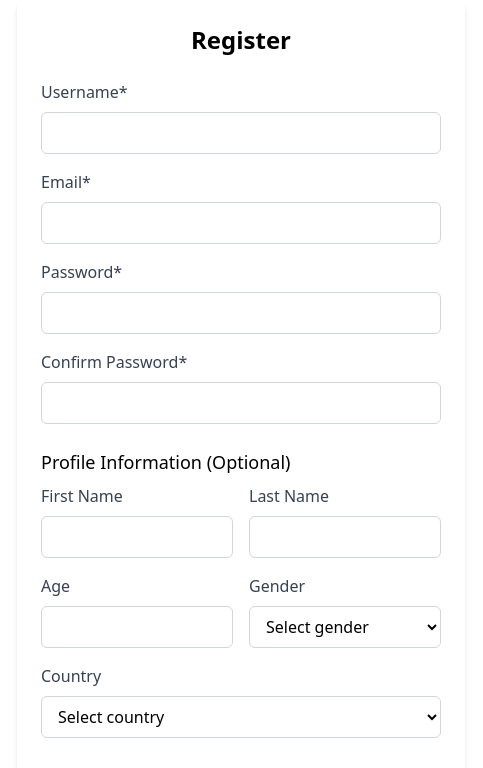
Scenario: RegisterForm › shows validation error for short password
The width and height of the screenshot is (483, 768).
Fill in the form with short password
Type "testuser" into the field labelled "Username*" at x=241, y=133, box [41,112,441,154]
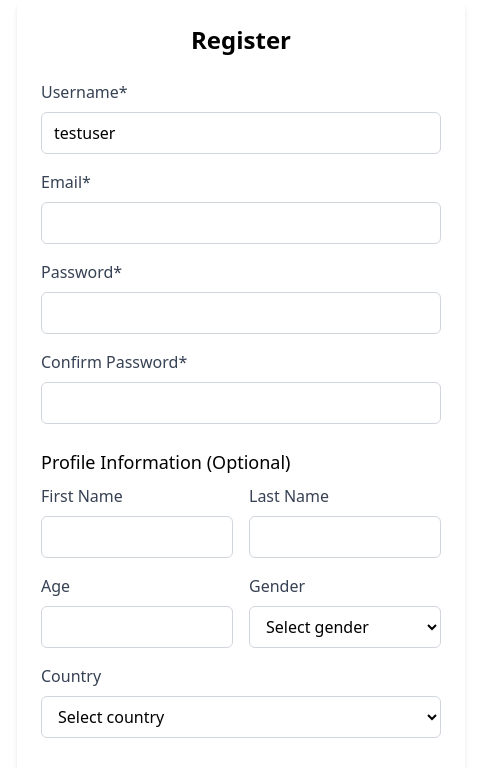
Type "test@example.com" into the field labelled "Email*" at x=241, y=223, box [41,202,441,244]
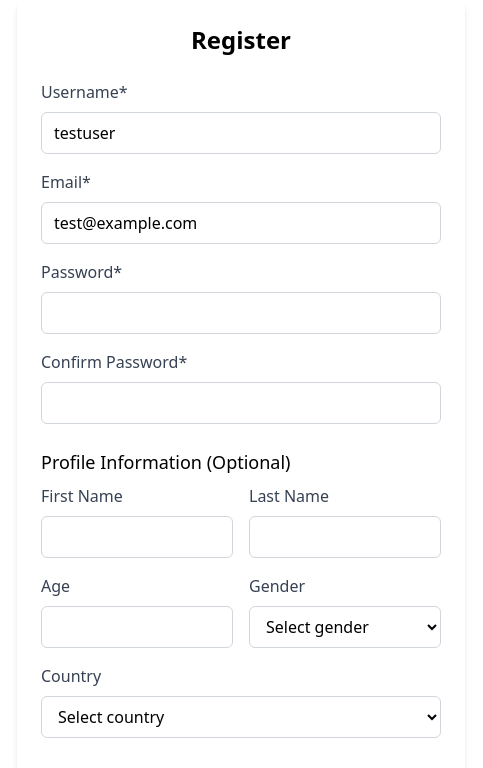
Type "12345" into the password field labelled "Password*" at x=241, y=313, box [41,292,441,334]
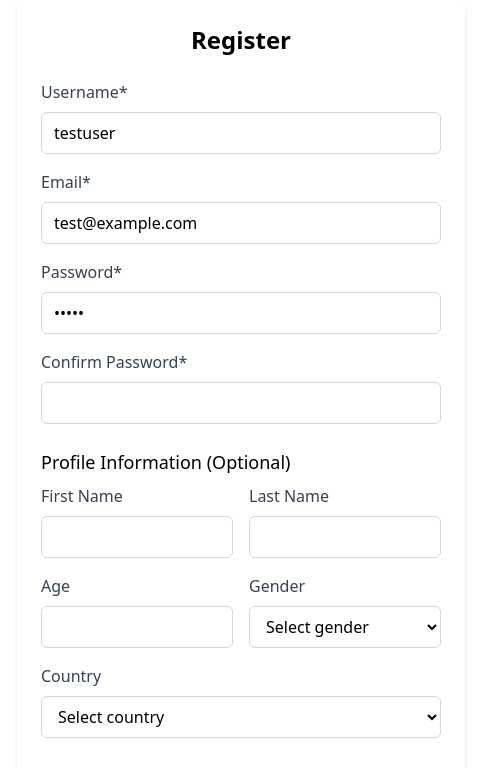
Type "12345" into the password field labelled "Confirm Password*" at x=241, y=403, box [41,382,441,424]
(page scrolled)
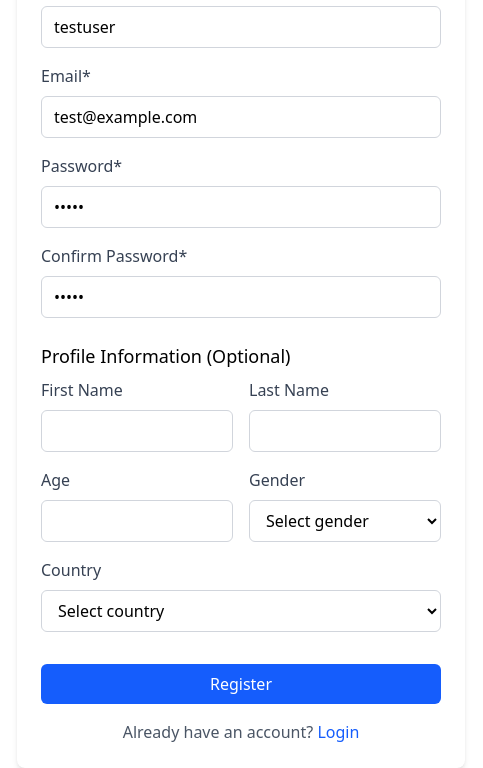
Submit the form
Click the button "Register" at x=241, y=684, box [41,664,441,704]
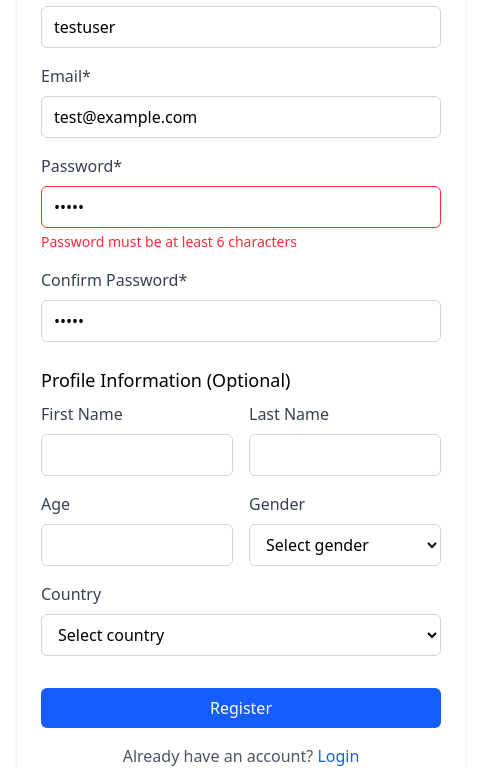
Now the text "Password must be at least 6 characters" is shown, box [41,232,297,251]
